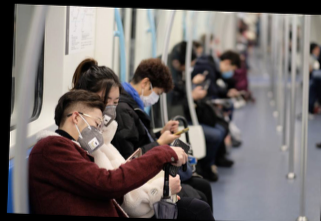with_mask: (78, 114, 104, 153), (99, 94, 119, 128), (139, 88, 164, 107), (222, 64, 237, 79)
